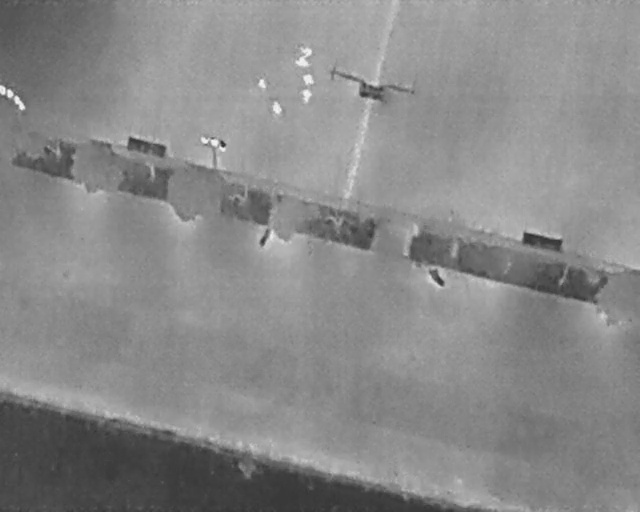Person: (271, 100, 283, 116), (301, 89, 312, 104), (300, 46, 313, 58), (296, 58, 311, 68), (303, 74, 314, 86), (258, 78, 267, 90)
